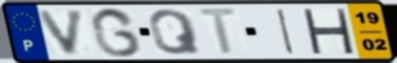G: (88, 6, 144, 58)
H: (300, 7, 356, 55)
I: (275, 7, 296, 56)
Q: (146, 8, 205, 56)
T: (196, 7, 243, 57)
V: (35, 8, 88, 57)
